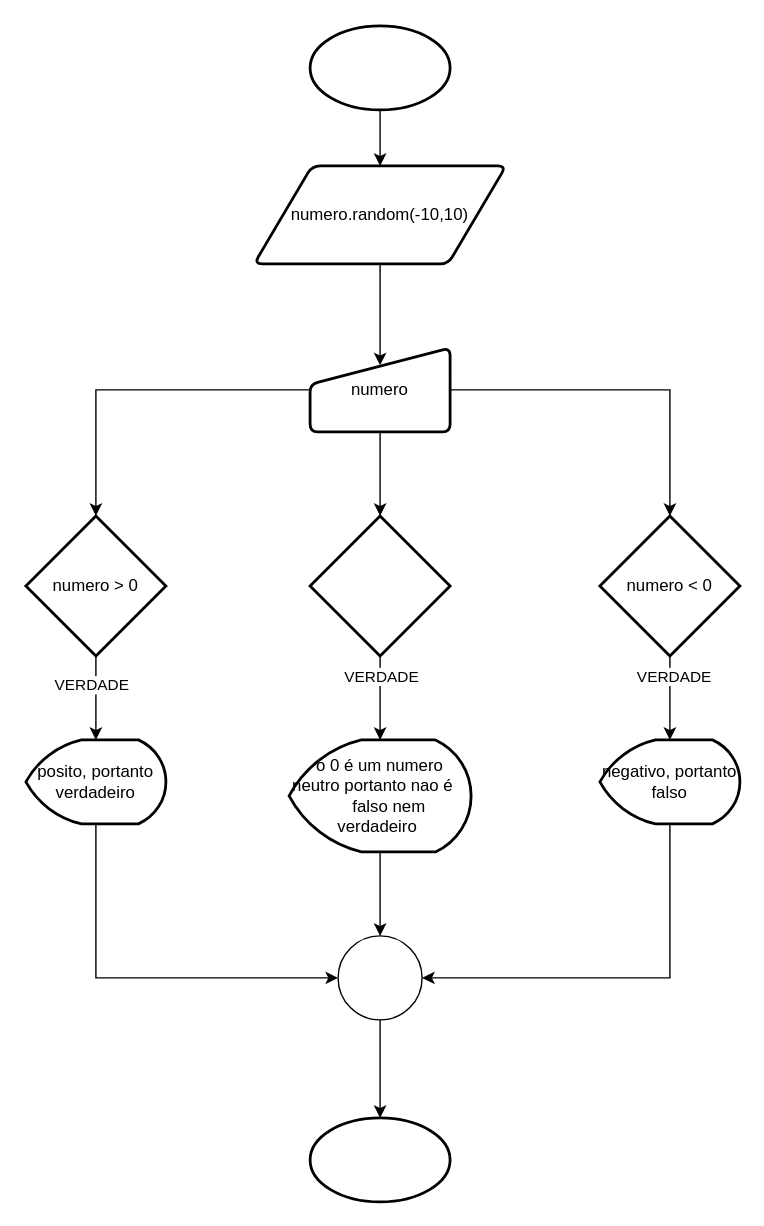
This 764x1226 diagram has some shape labels left out. Here are the shapes that lost their labels. From the top down, the centre of each, then its label:
the point at 379,67: inicio
the point at 379,585: numero = 0
the point at 379,1159: fim
